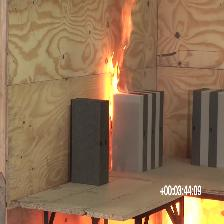fire: (107, 0, 132, 118)
